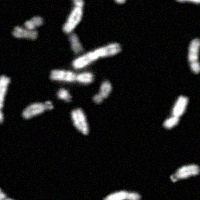chromosome: (73, 42, 120, 69), (163, 96, 188, 128), (64, 0, 83, 33), (170, 164, 200, 183), (49, 69, 92, 82), (22, 102, 51, 120), (188, 36, 200, 74), (0, 75, 9, 124), (71, 108, 88, 133), (12, 26, 38, 42), (94, 81, 112, 103), (102, 190, 139, 200), (70, 32, 83, 54), (24, 16, 44, 30), (0, 184, 17, 200), (58, 88, 71, 103), (178, 0, 200, 5), (115, 0, 133, 4)
